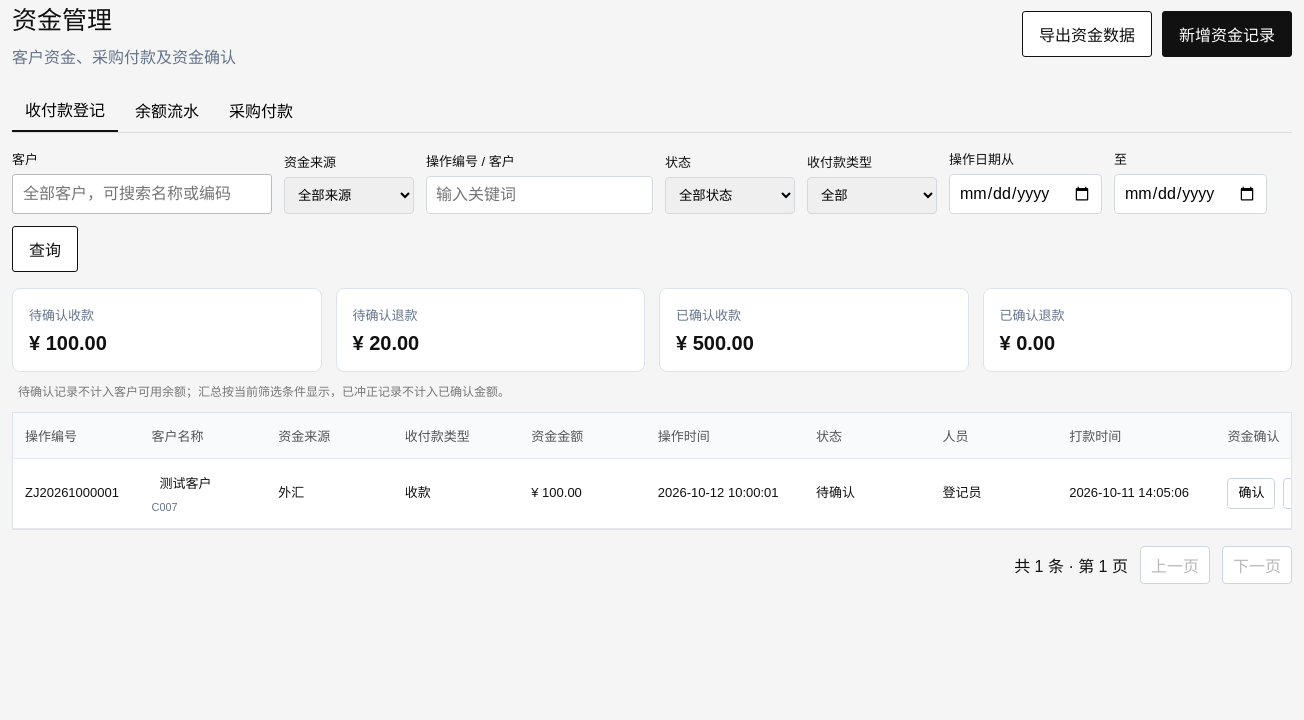
Test: queries balance ledger separately from bank receipts
Click the button "余额流水". click: click(167, 110)
box: left=122, top=88, right=212, bottom=132
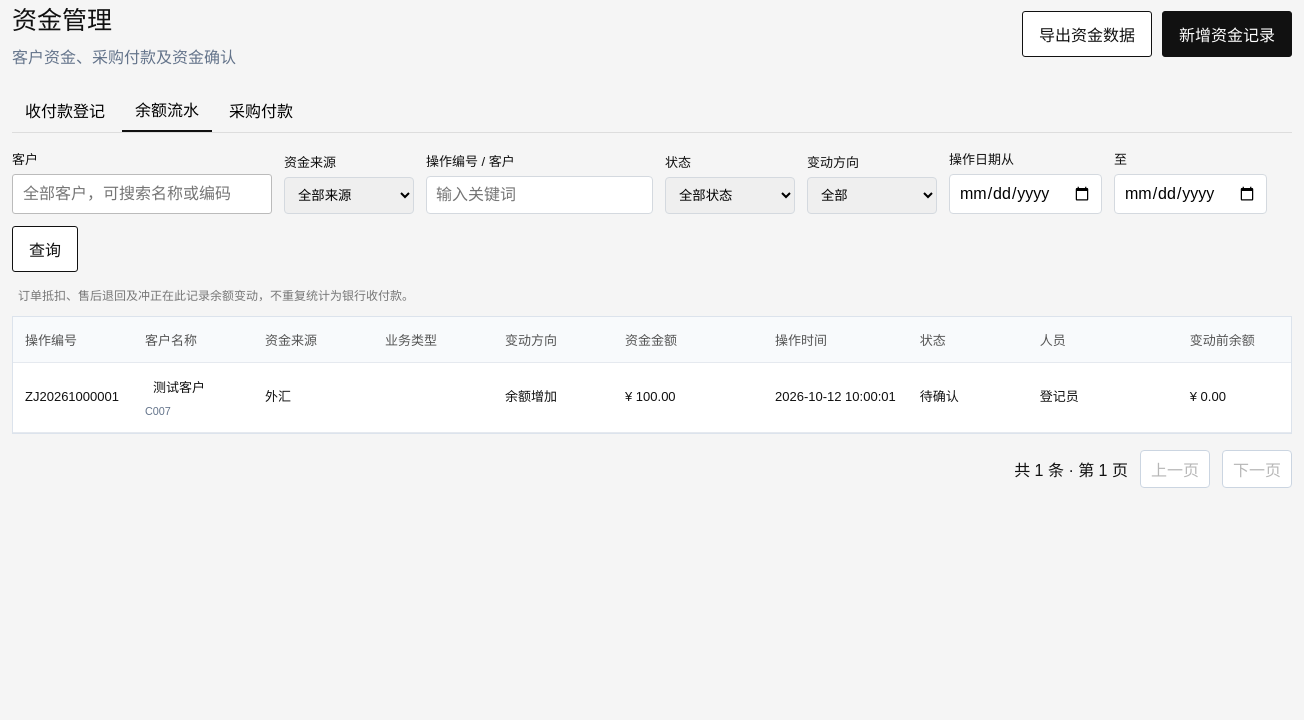
Check: the text "资金确认" is not shown
Check: the element showing "操作编号 客户名称 资金来源 业务类型 变动方向 资金金额 操作时间 状态 人员 变动前余额 变动后余额 操作" is shown, box left=13, top=317, right=1292, bottom=363
